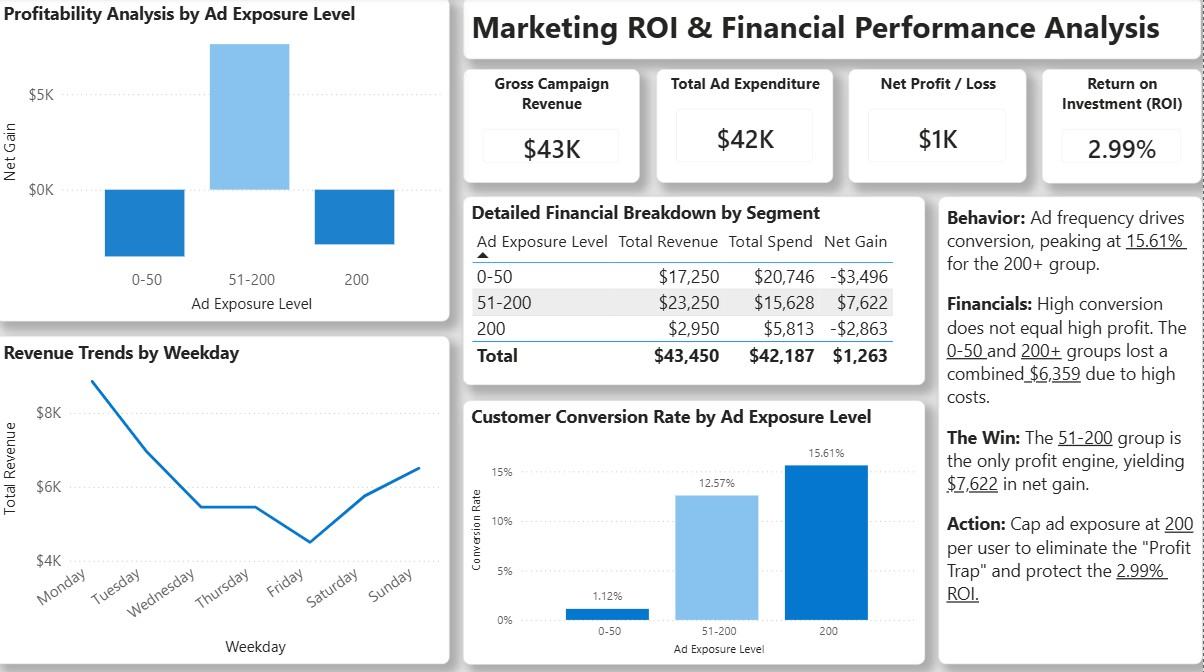

What the dashboard file says about the page in this screenshot:
{"tool":"powerbi","page":{"name":"Marketing ROI &  Financial Performance Analysis (Page 2)","canvas":[1280,720],"ordinal":1},"visuals":[{"type":"textbox","box":[497,0,782.4,66.1],"z":0},{"type":"cardVisual","title":"Gross Campaign Revenue","fields":{"Data":["marketing_AB_cleaned.Total Revenue"]},"box":[497,75.6,187.1,120.9],"z":1000},{"type":"cardVisual","title":"Total Ad Expenditure","fields":{"Data":["marketing_AB_cleaned.Total Spend"]},"box":[701,75.6,187.1,120.9],"z":2000},{"type":"cardVisual","title":"Net Profit / Loss","fields":{"Data":["marketing_AB_cleaned.Net Gain"]},"box":[905.1,75.6,189,120.9],"z":3000},{"type":"cardVisual","title":"Return on Investment (ROI)","fields":{"Data":["marketing_AB_cleaned.ROI %"]},"box":[1111,75.6,169,121],"z":4000},{"type":"clusteredColumnChart","title":"Profitability Analysis by Ad Exposure Level","fields":{"Category":["marketing_AB_cleaned.ads_bucket"],"Y":["marketing_AB_cleaned.Net Gain"]},"box":[0,0,482,344],"z":5000},{"type":"lineChart","title":"Revenue Trends by Weekday","fields":{"Category":["WeekdaySort.DayName"],"Y":["marketing_AB_cleaned.Total Revenue"]},"box":[0,360,482,348],"z":6000},{"type":"tableEx","title":"Detailed Financial Breakdown by Segment","fields":{"Values":["marketing_AB_cleaned.ads_bucket","marketing_AB_cleaned.Total Revenue","marketing_AB_cleaned.Total Spend","marketing_AB_cleaned.Net Gain"]},"box":[496,212,490,200],"z":7000},{"type":"clusteredColumnChart","title":"Customer Conversion Rate by Ad Exposure Level","fields":{"Category":["marketing_AB_cleaned.ads_bucket"],"Y":["marketing_AB_cleaned.Conversion Rate"]},"box":[496,428,490,280],"z":8000},{"type":"textbox","box":[1000,212,280,496],"z":9000}]}

Visuals, with their boxes in screenshot pixels (x1, y1, x2, y2), scaled from the page's 1280x720 canvas onto the 1204x672 screenshot:
textbox: [467, 0, 1203, 62]
"Gross Campaign Revenue" cardVisual: [467, 71, 643, 183]
"Total Ad Expenditure" cardVisual: [659, 71, 835, 183]
"Net Profit / Loss" cardVisual: [851, 71, 1029, 183]
"Return on Investment (ROI)" cardVisual: [1045, 71, 1203, 183]
"Profitability Analysis by Ad Exposure Level" clusteredColumnChart: [0, 0, 453, 321]
"Revenue Trends by Weekday" lineChart: [0, 336, 453, 661]
"Detailed Financial Breakdown by Segment" tableEx: [467, 198, 927, 385]
"Customer Conversion Rate by Ad Exposure Level" clusteredColumnChart: [467, 399, 927, 661]
textbox: [941, 198, 1203, 661]
